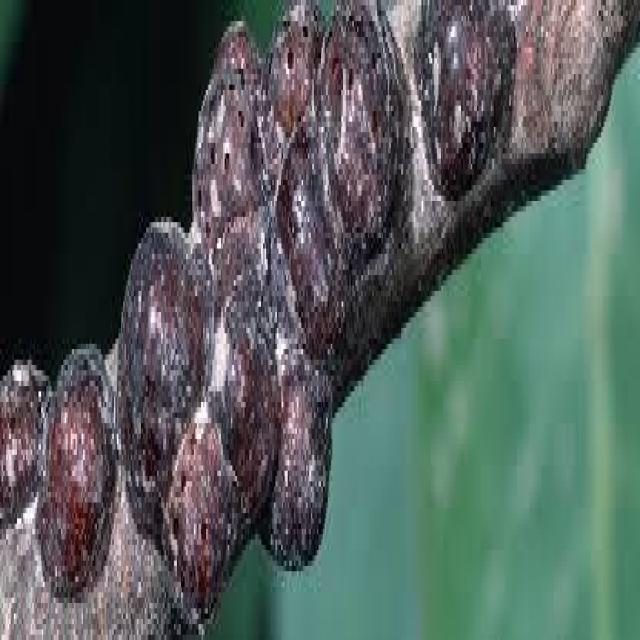Black Scale: (0, 0, 638, 635)
